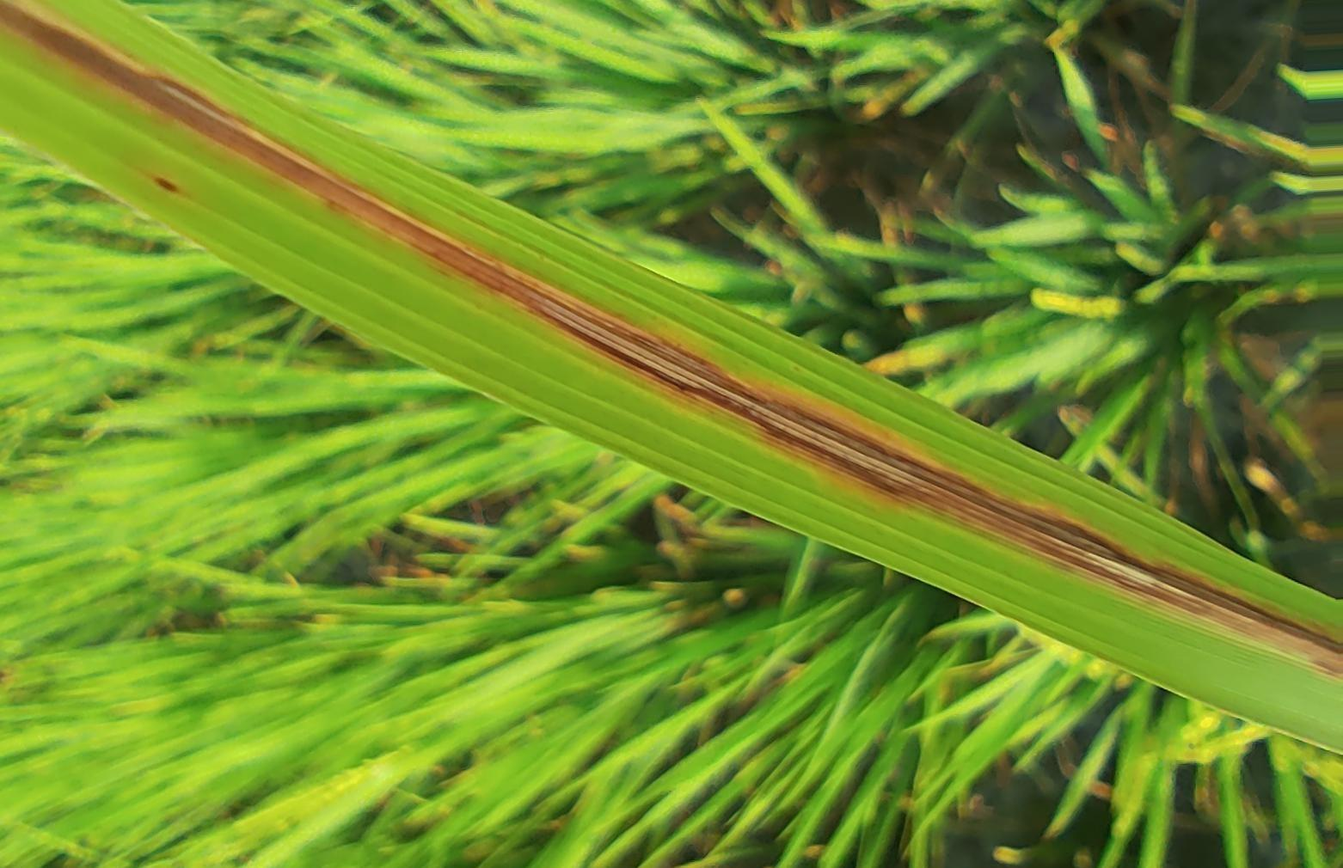BLB: (2, 2, 1342, 682)
LEAF: (0, 0, 1342, 751)
